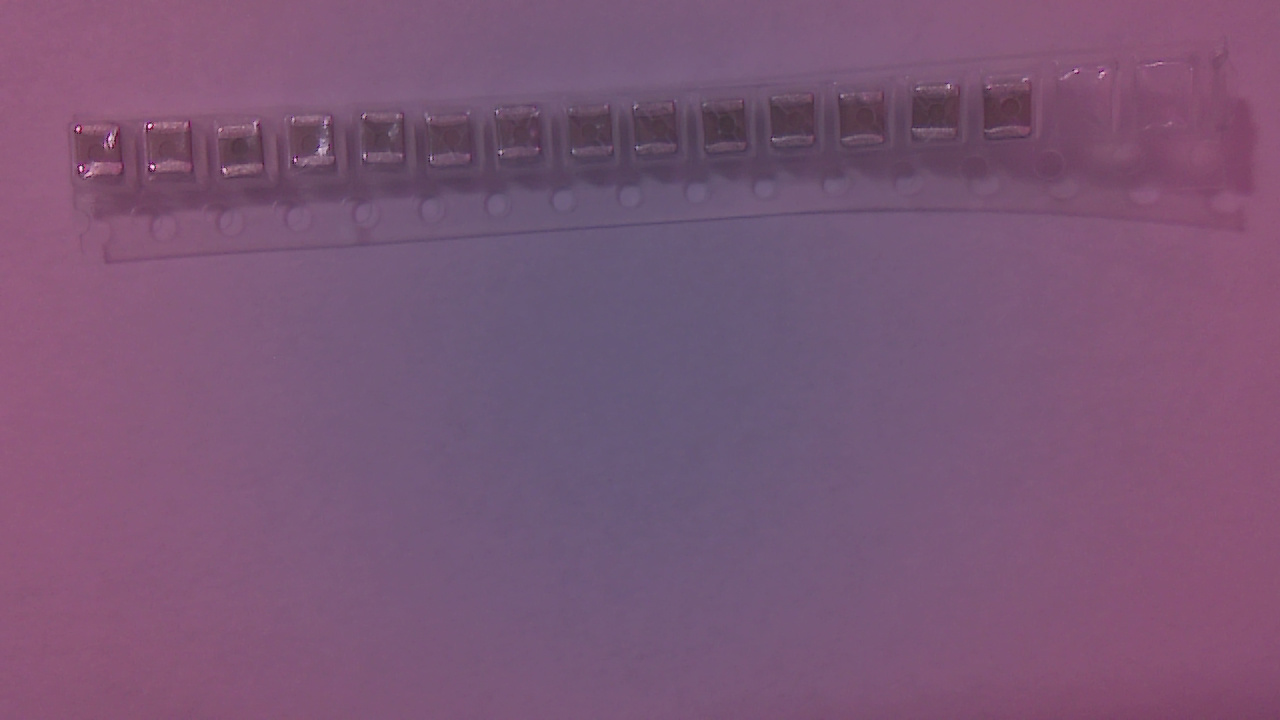Condensator: (428, 113, 483, 175), (987, 81, 1038, 145), (917, 85, 969, 147), (79, 122, 127, 189), (843, 90, 893, 154), (705, 102, 757, 162), (500, 107, 548, 171), (570, 106, 620, 166), (149, 123, 198, 184), (363, 112, 411, 173), (773, 96, 821, 154), (637, 103, 683, 163), (225, 125, 270, 184), (300, 117, 344, 175)
